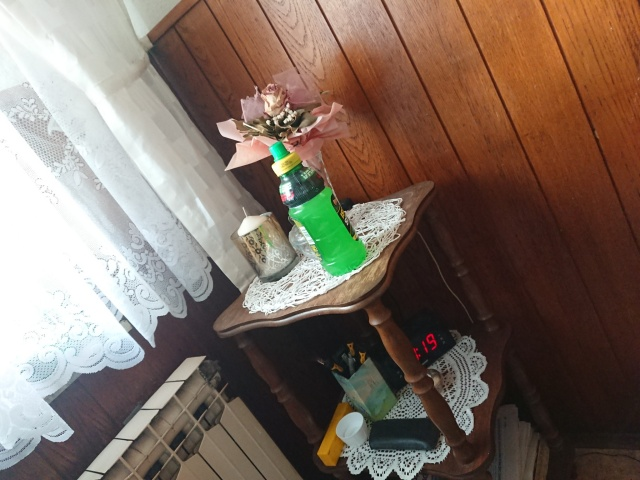Vindi Iso Sport Lemon-Grapefruit 500mL: (266, 139, 369, 278)
